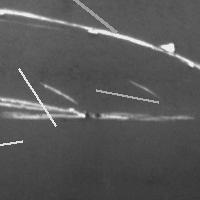scratches: (1, 7, 199, 69), (2, 80, 128, 120), (14, 64, 61, 131), (1, 108, 194, 123), (53, 0, 121, 37), (91, 85, 163, 107), (0, 136, 27, 157)
